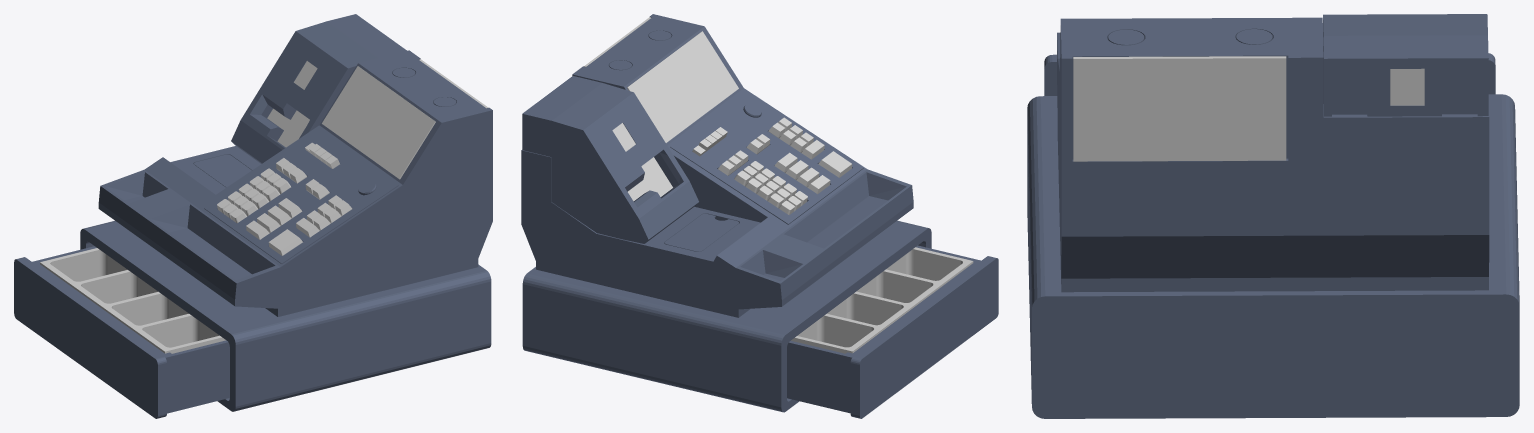
The model's file is arena_cash_register.dae.
The picture shows the model from 3 angles, left to right: view 1: azimuth 30°, elevation 25°; view 2: azimuth 150°, elevation 25°; view 3: azimuth 270°, elevation 25°; orthographic projection. The views are drawn at different scales.
Visible parts, largest first — view 1: tillbody, base, drawer, receiptprinter, cointray, calcbuttons, operationbuttons, custombuttons, Circle_001; view 2: tillbody, base, receiptprinter, drawer, cointray, calcbuttons, operationbuttons, Circle_001, custombuttons; view 3: tillbody, base, receiptprinter, drawer.
Boxes of the visible parts, bbox=[...] form: tillbody: bbox=[98, 50, 492, 316]; base: bbox=[80, 221, 491, 411]; drawer: bbox=[14, 246, 229, 418]; receiptprinter: bbox=[231, 14, 406, 163]; cointray: bbox=[40, 248, 225, 353]; calcbuttons: bbox=[217, 168, 290, 223]; operationbuttons: bbox=[268, 195, 352, 255]; custombuttons: bbox=[246, 198, 302, 239]; Circle_001: bbox=[194, 154, 251, 187]; tillbody: bbox=[521, 14, 913, 317]; base: bbox=[522, 220, 931, 412]; receiptprinter: bbox=[522, 76, 698, 243]; drawer: bbox=[787, 245, 998, 418]; cointray: bbox=[791, 247, 973, 353]; calcbuttons: bbox=[734, 161, 807, 214]; operationbuttons: bbox=[768, 117, 852, 177]; Circle_001: bbox=[664, 213, 738, 251]; custombuttons: bbox=[774, 152, 830, 194]; tillbody: bbox=[1057, 17, 1489, 292]; base: bbox=[1027, 94, 1519, 418]; receiptprinter: bbox=[1323, 14, 1488, 116]; drawer: bbox=[1044, 53, 1495, 95].
Bounding box in the file's own units: 0.3288 × 0.2564 × 0.2118.
